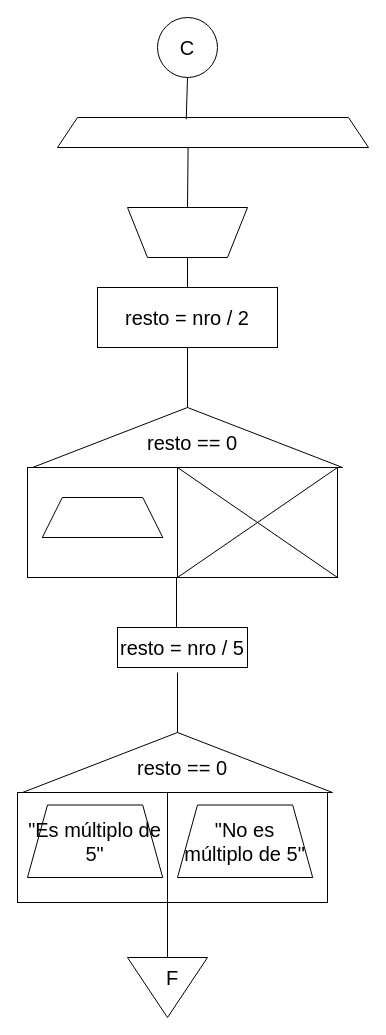
Some shapes in this 386 by 1035 pixel diagram are drawn without their labels. The centre of each missing label's shape, as x and y in pixels:
"Es par": [102,517]
"Ingrese un número entero": [212,132]
nro: [187,232]
